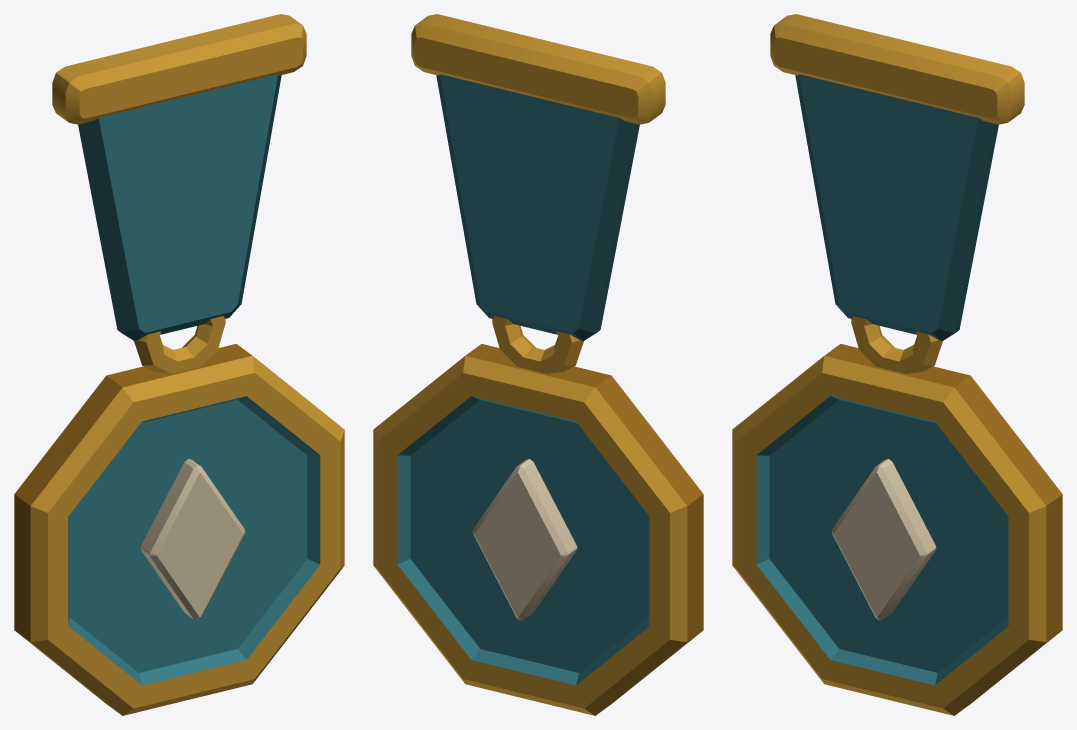
The model's file is Medal_05.glb.
3 renders of one model, left to right at view 1: azimuth 30°, elevation 25°; view 2: azimuth 150°, elevation 25°; view 3: azimuth 330°, elevation 25°, orthographic.
Parts seen in each view (by area): view 1: Medal_05; view 2: Medal_05; view 3: Medal_05.
Boxes of the visible parts, x1,y1,x2,y2 form: Medal_05: (14,14,344,715); Medal_05: (373,14,703,715); Medal_05: (732,14,1062,715).
Size of the model in its own units: 1.22 by 2.42 by 0.28.
